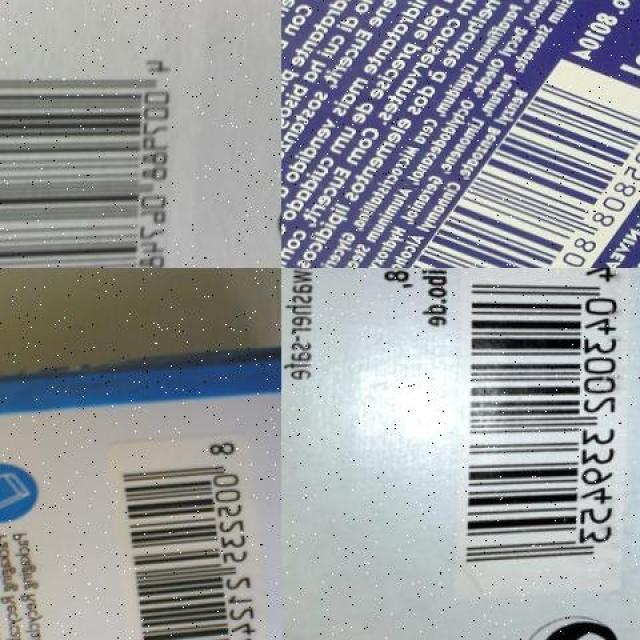Barcode: (452, 268, 636, 592), (385, 56, 640, 268), (0, 48, 193, 268), (99, 432, 281, 640)
